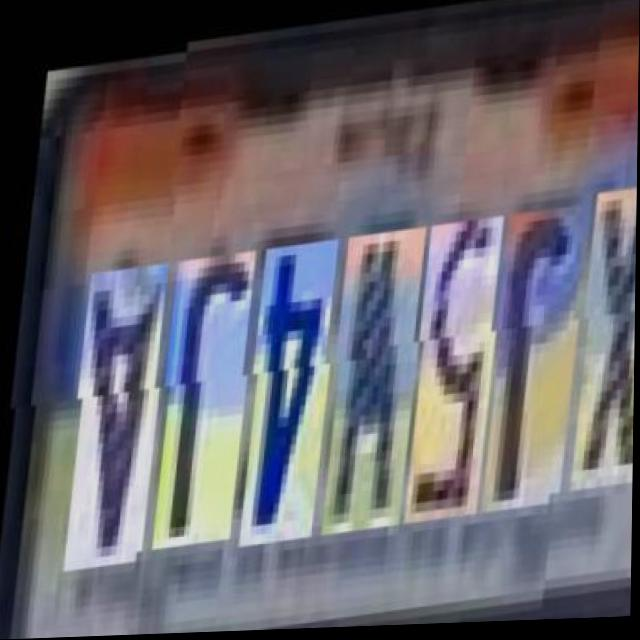4: (231, 234, 331, 540)
5: (395, 216, 495, 521)
a: (57, 243, 160, 551)
j: (474, 206, 577, 514), (145, 243, 248, 540)
w: (314, 223, 418, 531)
x: (562, 199, 637, 504)
